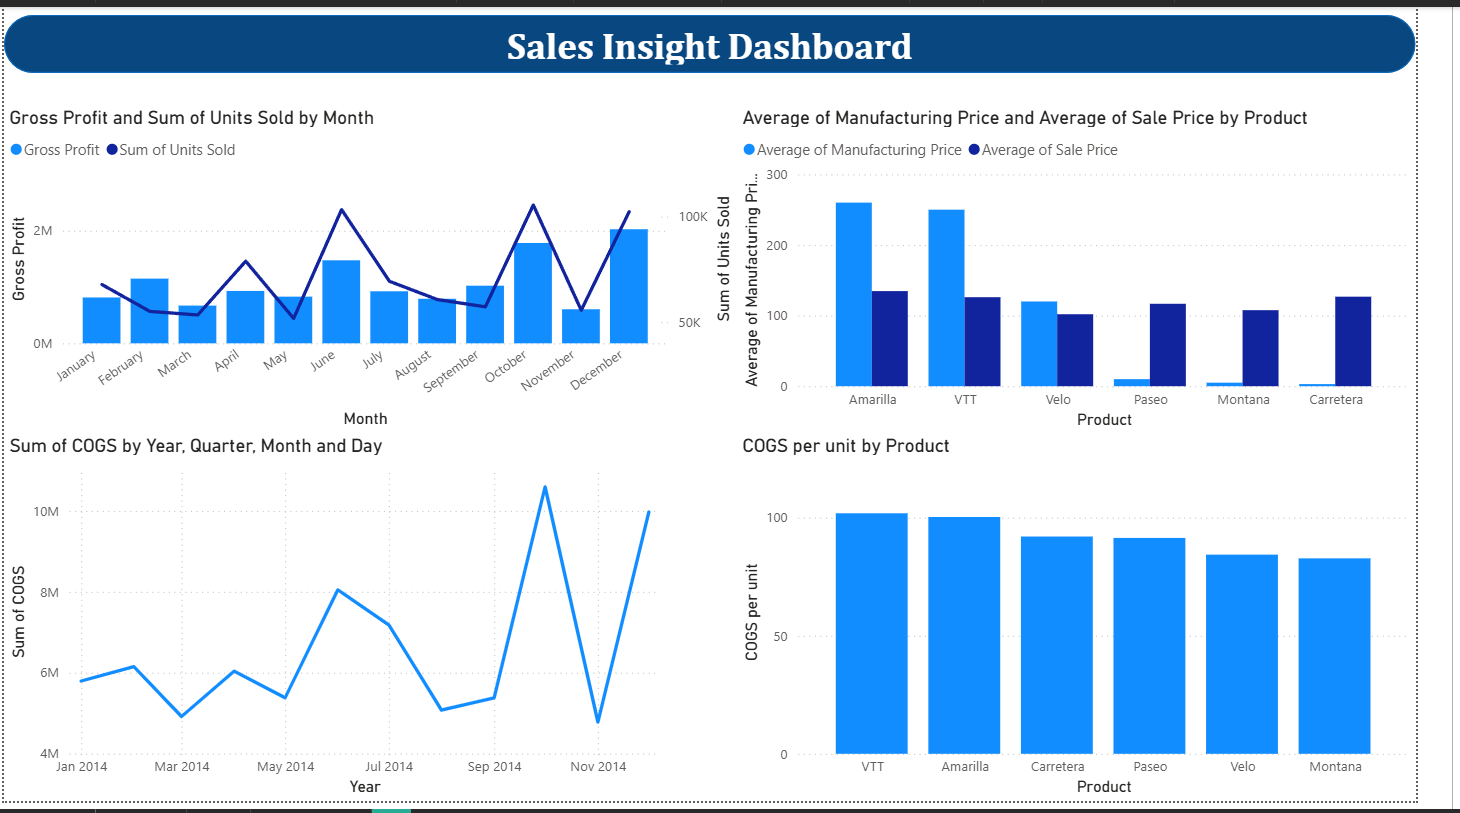

What the dashboard file says about the page in this screenshot:
{"tool":"powerbi","page":{"name":"RCA","canvas":[1280,720],"ordinal":1},"visuals":[{"type":"lineChart","fields":{"Y":["Sum(financials.COGS)"],"Category":["DateTable.Date.Variation.Date Hierarchy.Year","DateTable.Date.Variation.Date Hierarchy.Quarter","DateTable.Date.Variation.Date Hierarchy.Month","DateTable.Date.Variation.Date Hierarchy.Day"]},"box":[0,387.2,615.7,332.8],"z":2},{"type":"clusteredColumnChart","fields":{"Y":["Avg(financials.Manufacturing Price)","Avg(financials.Sale Price)"],"Category":["financials.Product"]},"box":[664.7,89.8,615.7,297.4],"z":3},{"type":"lineClusteredColumnComboChart","fields":{"Category":["DateTable.Date.Variation.Date Hierarchy.Year","DateTable.Date.Variation.Date Hierarchy.Quarter","DateTable.Date.Variation.Date Hierarchy.Month","DateTable.Date.Variation.Date Hierarchy.Day"],"Y":["financials.Gross Profit"],"Y2":["Sum(financials.Units Sold)"]},"box":[0,89.8,664.7,296.5],"z":4},{"type":"shape","box":[0,6.8,1280,52.5],"z":6},{"type":"clusteredColumnChart","fields":{"Category":["financials.Product"],"Y":["financials.COGS per unit"]},"box":[665,387,615,333],"z":7}]}

Visuals, with their boxes in screenshot pixels (x1, y1, x2, y2), scaled from the page's 1280x720 canvas onto the 1460x813 screenshot:
lineChart - Sum(financials.COGS) x DateTable.Date.Variation.Date Hierarchy.Year: locate(0, 437, 702, 812)
clusteredColumnChart - Avg(financials.Manufacturing Price) x Avg(financials.Sale Price): locate(758, 101, 1459, 437)
lineClusteredColumnComboChart - DateTable.Date.Variation.Date Hierarchy.Year x DateTable.Date.Variation.Date Hierarchy.Quarter: locate(0, 101, 758, 436)
shape: locate(0, 8, 1459, 67)
clusteredColumnChart - financials.Product x financials.COGS per unit: locate(759, 437, 1459, 812)
